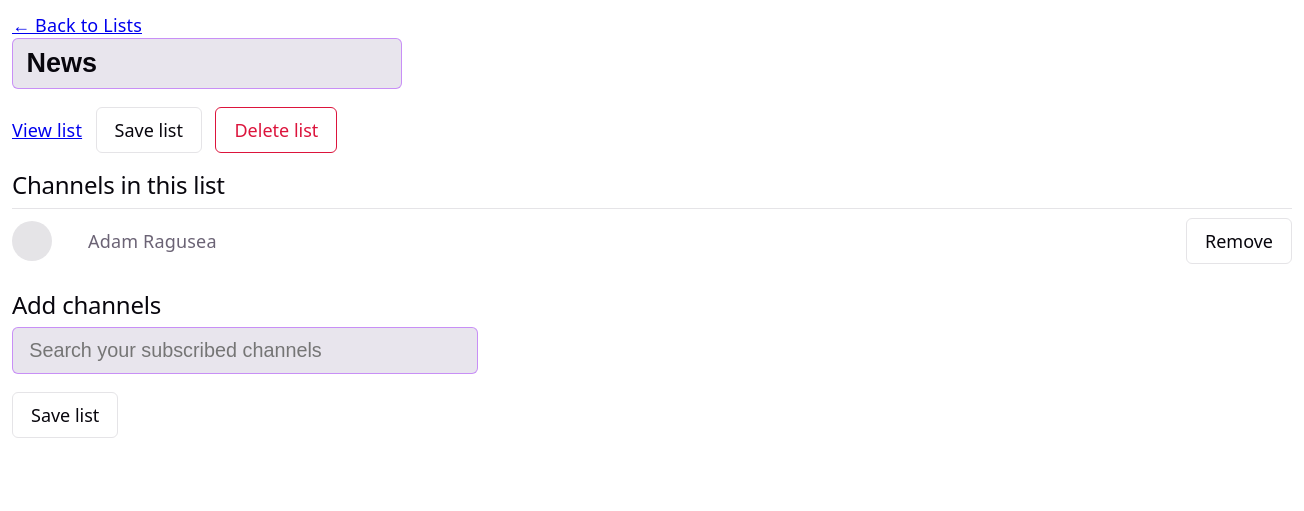
ListEditorPage › removing a selected channel returns it to the search results
This screenshot has width=1304, height=511.
Expected: the field showing "News" is shown, x1=12 y1=38 x2=402 y2=89
Expected: the text "Adam Ragusea" is shown, x1=88 y1=228 x2=217 y2=252
Click the button "Remove".
click(1239, 241)  # box x1=1186 y1=218 x2=1292 y2=264
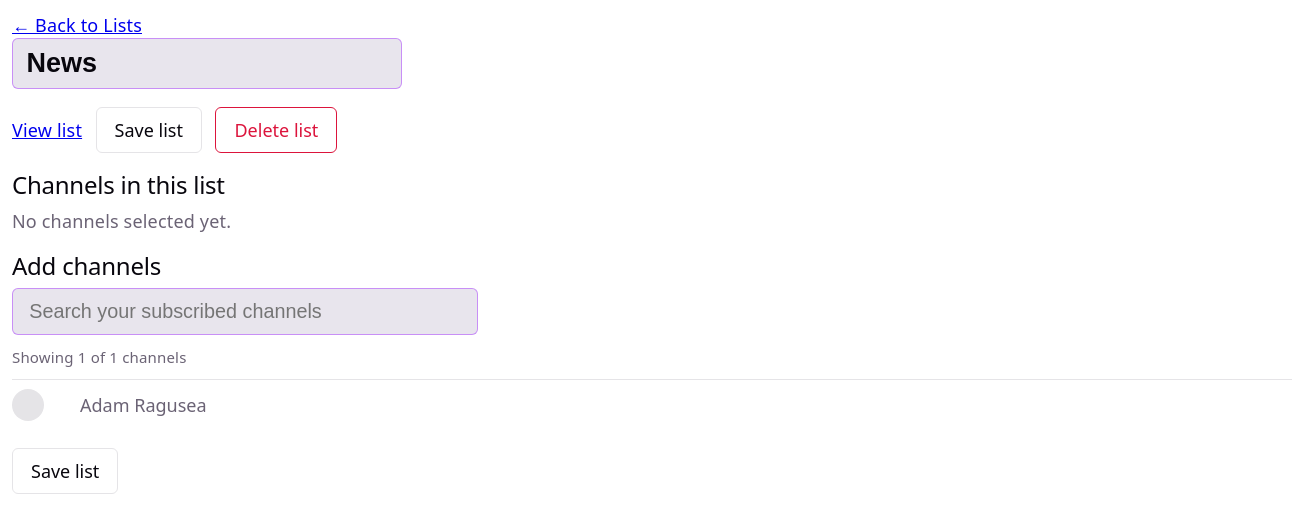
Expected: the button "Adam Ragusea" is shown, x1=80 y1=392 x2=206 y2=418
Result: the text "No channels selected yet." is shown at x1=12 y1=208 x2=231 y2=232
Result: the button "Remove" is gone
